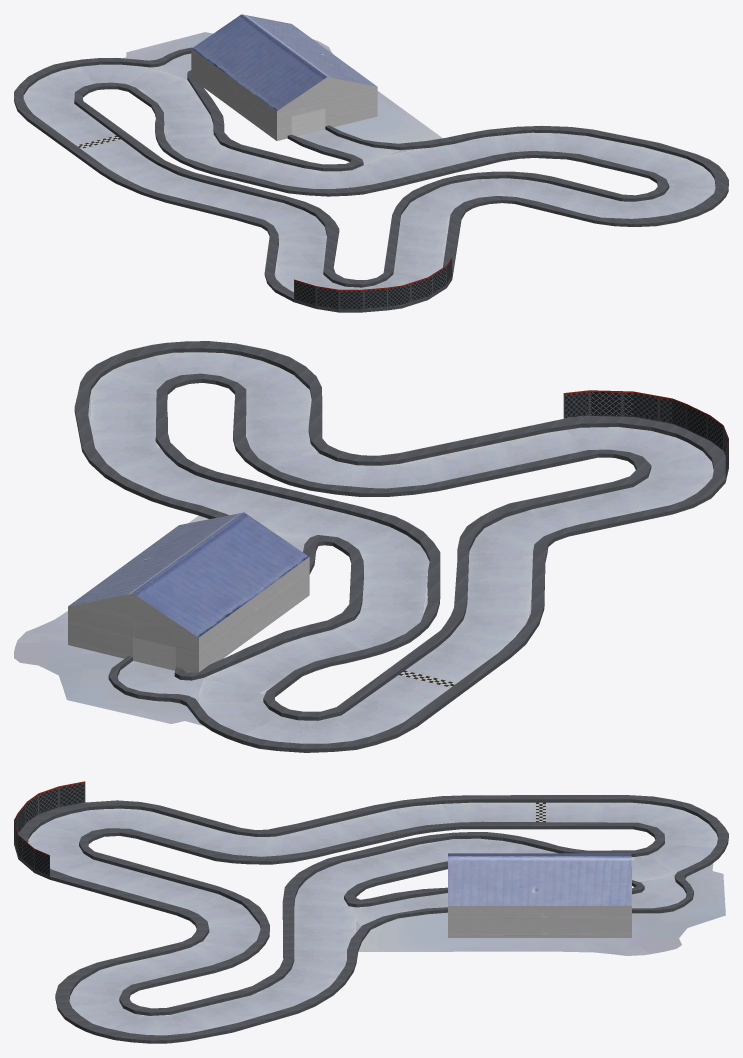
3 views of the same model, one above another, from view 1: azimuth 30°, elevation 25°; view 2: azimuth 150°, elevation 25°; view 3: azimuth 270°, elevation 25° (orthographic). The views are drawn at different scales.
Parts seen in each view (by area): view 1: Cube.006_Cube.007, Cube_Cube.001, Cube.003_Cube.004, Cube.004_Cube.005, Cube.007_Cube.000, Cube.005_Cube.006; view 2: Cube.006_Cube.007, Cube_Cube.001, Cube.003_Cube.004, Cube.004_Cube.005, Cube.007_Cube.000, Cube.005_Cube.006; view 3: Cube.006_Cube.007, Cube_Cube.001, Cube.003_Cube.004, Cube.004_Cube.005, Cube.007_Cube.000.
Boxes of the visible parts, x1,y1,x2,y2 form: Cube.006_Cube.007: (23, 32, 715, 291); Cube_Cube.001: (14, 47, 728, 312); Cube.003_Cube.004: (191, 14, 376, 110); Cube.004_Cube.005: (191, 49, 377, 140); Cube.007_Cube.000: (294, 257, 452, 309); Cube.005_Cube.006: (291, 108, 325, 136); Cube.006_Cube.007: (14, 352, 713, 743); Cube_Cube.001: (74, 341, 728, 752); Cube.003_Cube.004: (68, 512, 308, 637); Cube.004_Cube.005: (68, 557, 309, 672); Cube.007_Cube.000: (563, 390, 728, 477); Cube.005_Cube.006: (133, 637, 175, 670); Cube.006_Cube.007: (28, 802, 725, 1035); Cube_Cube.001: (14, 795, 728, 1043); Cube.003_Cube.004: (448, 853, 631, 905); Cube.004_Cube.005: (448, 867, 631, 937); Cube.007_Cube.000: (14, 781, 85, 876).
Size of what is drawn, in the model's own units: 42260 by 4455 by 51989.
Materials: 7 (7 with a texture image).
